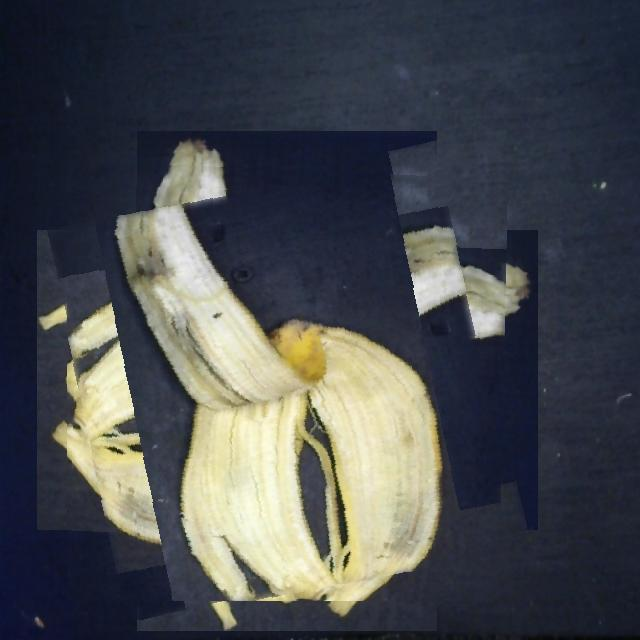biodegradable: (67, 160, 508, 601)
